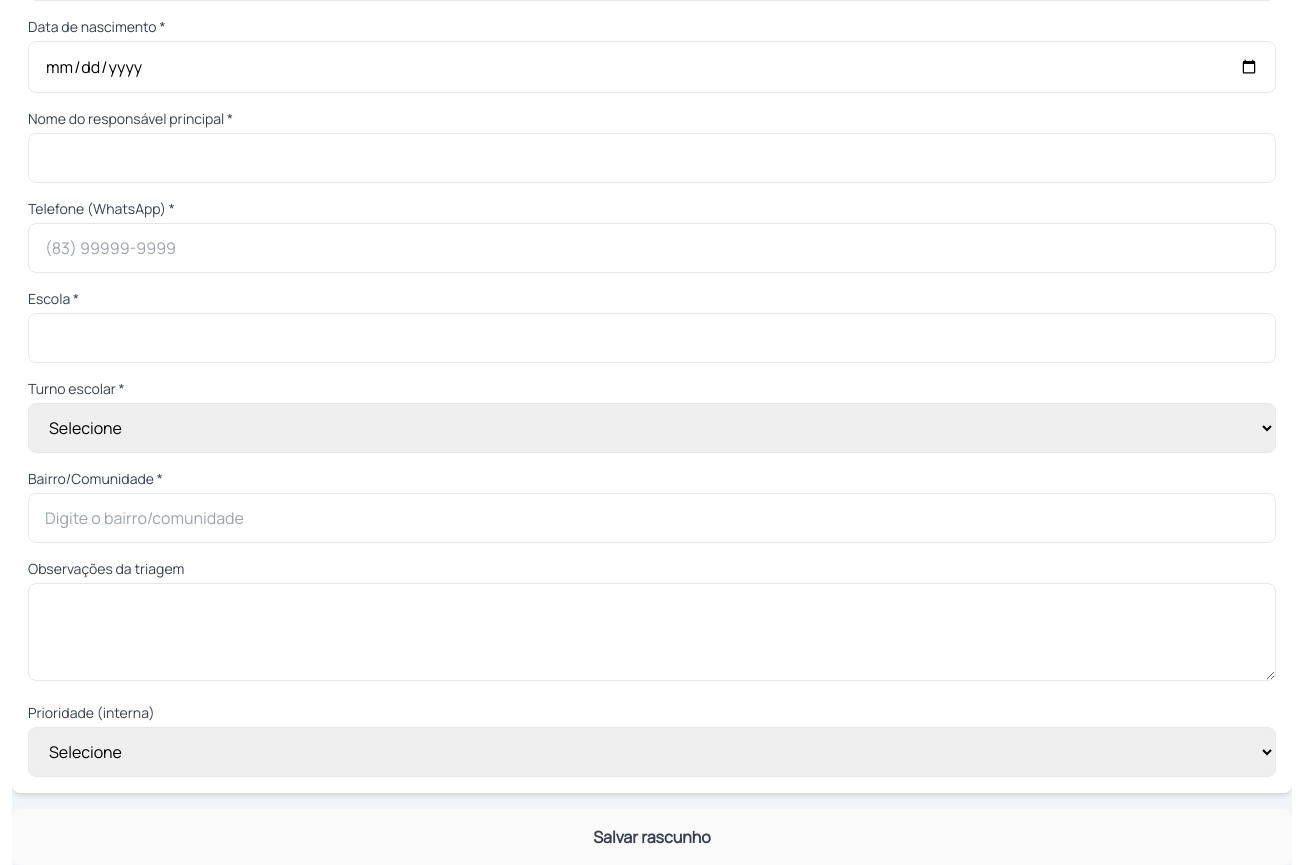
AddChildView › disables save button and shows loading text while saving
The width and height of the screenshot is (1304, 865).
(page scrolled)
Click the button "Salvar rascunho": (652, 837) [12,809,1292,864]
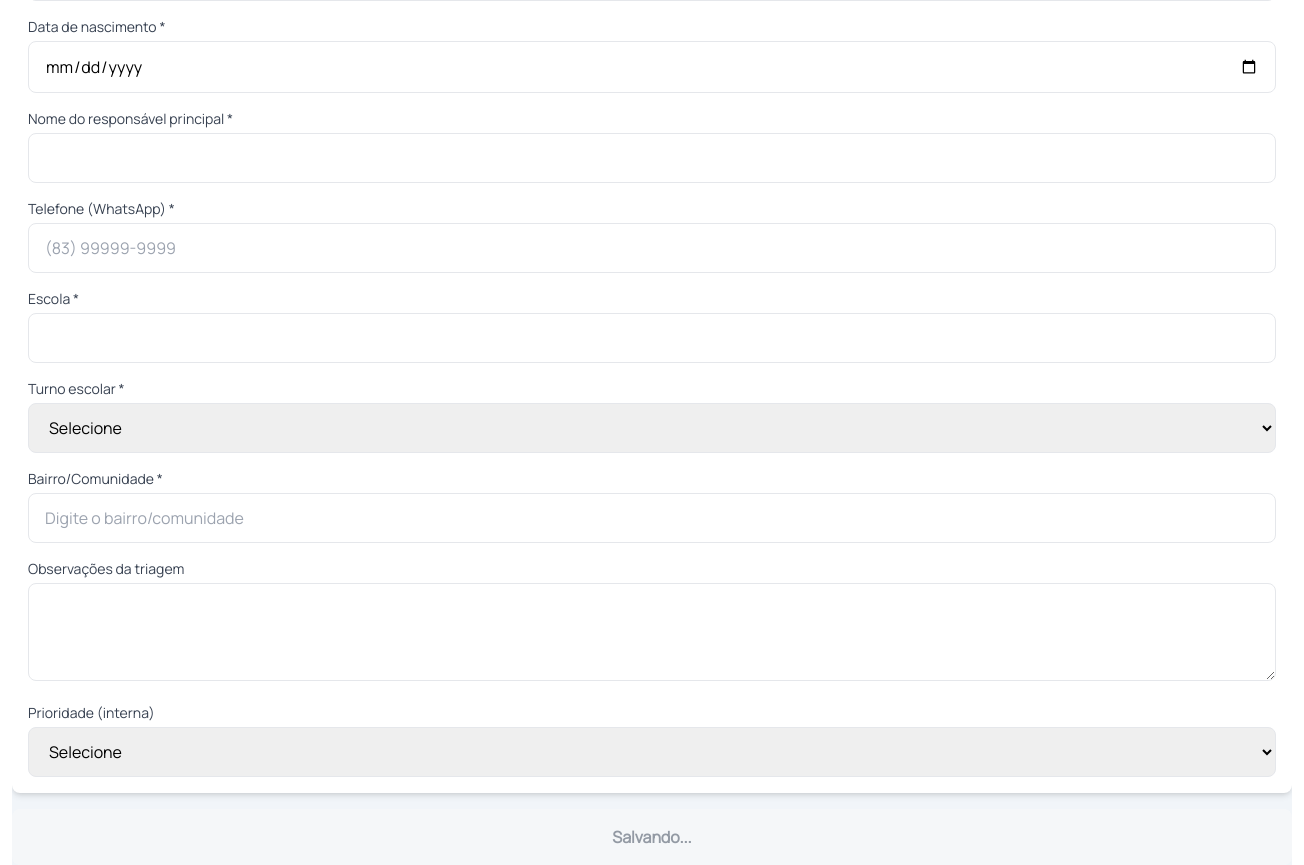
Now the button "Salvando..." is disabled, box [12,809,1292,864]
